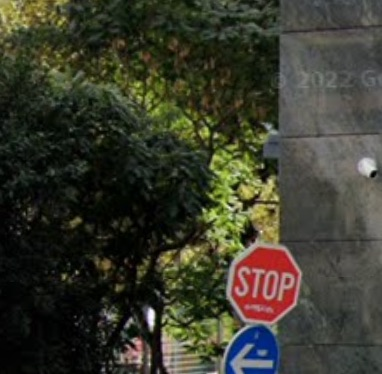Obavezno zaustavljanje: (226, 243, 302, 325)
